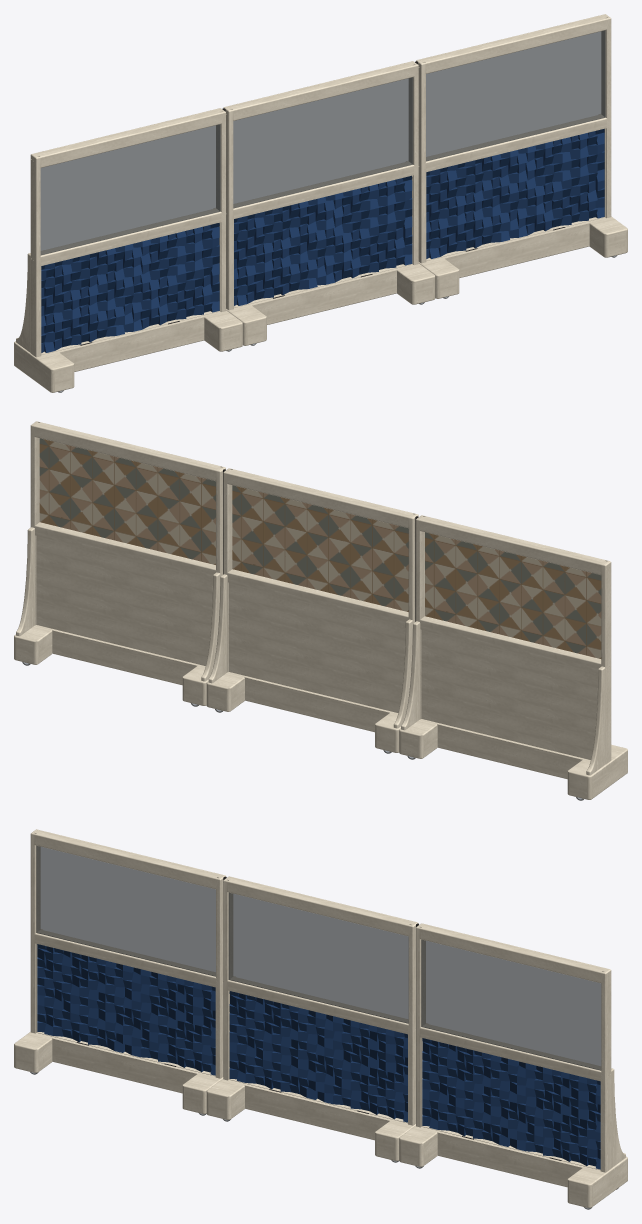
File: v10-linen-marquetry-bleached-maple-three.glb
3 renders of one model, top to bottom at view 1: azimuth 30°, elevation 25°; view 2: azimuth 150°, elevation 25°; view 3: azimuth 330°, elevation 25°, orthographic.
Visible parts, largest first — view 1: Left Wood, Left Linen Marquetry reverse, Linen Marquetry reverse, Right Linen Marquetry reverse, Right Navy Everwood relief, Left Navy Everwood relief, Navy Everwood relief, Right Wood, Wood; view 2: Left Wood, Wood, Right Wood, Linen Marquetry print, Right Linen Marquetry print, Left Linen Marquetry print; view 3: Right Wood, Linen Marquetry reverse, Right Linen Marquetry reverse, Left Linen Marquetry reverse, Left Navy Everwood relief, Right Navy Everwood relief, Navy Everwood relief, Left Wood, Wood.
Boxes of the visible parts, <box> form: Left Wood: <box>14,108,242,392</box>; Left Linen Marquetry reverse: <box>40,124,220,255</box>; Linen Marquetry reverse: <box>233,77,413,208</box>; Right Linen Marquetry reverse: <box>426,30,605,161</box>; Right Navy Everwood relief: <box>426,128,604,258</box>; Left Navy Everwood relief: <box>41,223,219,352</box>; Navy Everwood relief: <box>234,175,412,305</box>; Right Wood: <box>416,14,627,298</box>; Wood: <box>223,61,435,345</box>; Left Wood: <box>399,515,627,799</box>; Wood: <box>206,468,418,752</box>; Right Wood: <box>14,421,225,705</box>; Linen Marquetry print: <box>232,485,408,611</box>; Right Linen Marquetry print: <box>39,438,215,564</box>; Left Linen Marquetry print: <box>425,532,601,658</box>; Right Wood: <box>399,923,627,1207</box>; Linen Marquetry reverse: <box>228,892,408,1023</box>; Right Linen Marquetry reverse: <box>421,940,601,1070</box>; Left Linen Marquetry reverse: <box>36,846,215,976</box>; Left Navy Everwood relief: <box>37,944,215,1075</box>; Right Navy Everwood relief: <box>422,1038,600,1169</box>; Navy Everwood relief: <box>229,991,407,1122</box>; Left Wood: <box>14,829,225,1114</box>; Wood: <box>206,876,418,1161</box>.
Bounding box in the file's own units: 5.03 × 1.91 × 0.5842.
Materials: 10 (2 with a texture image).
